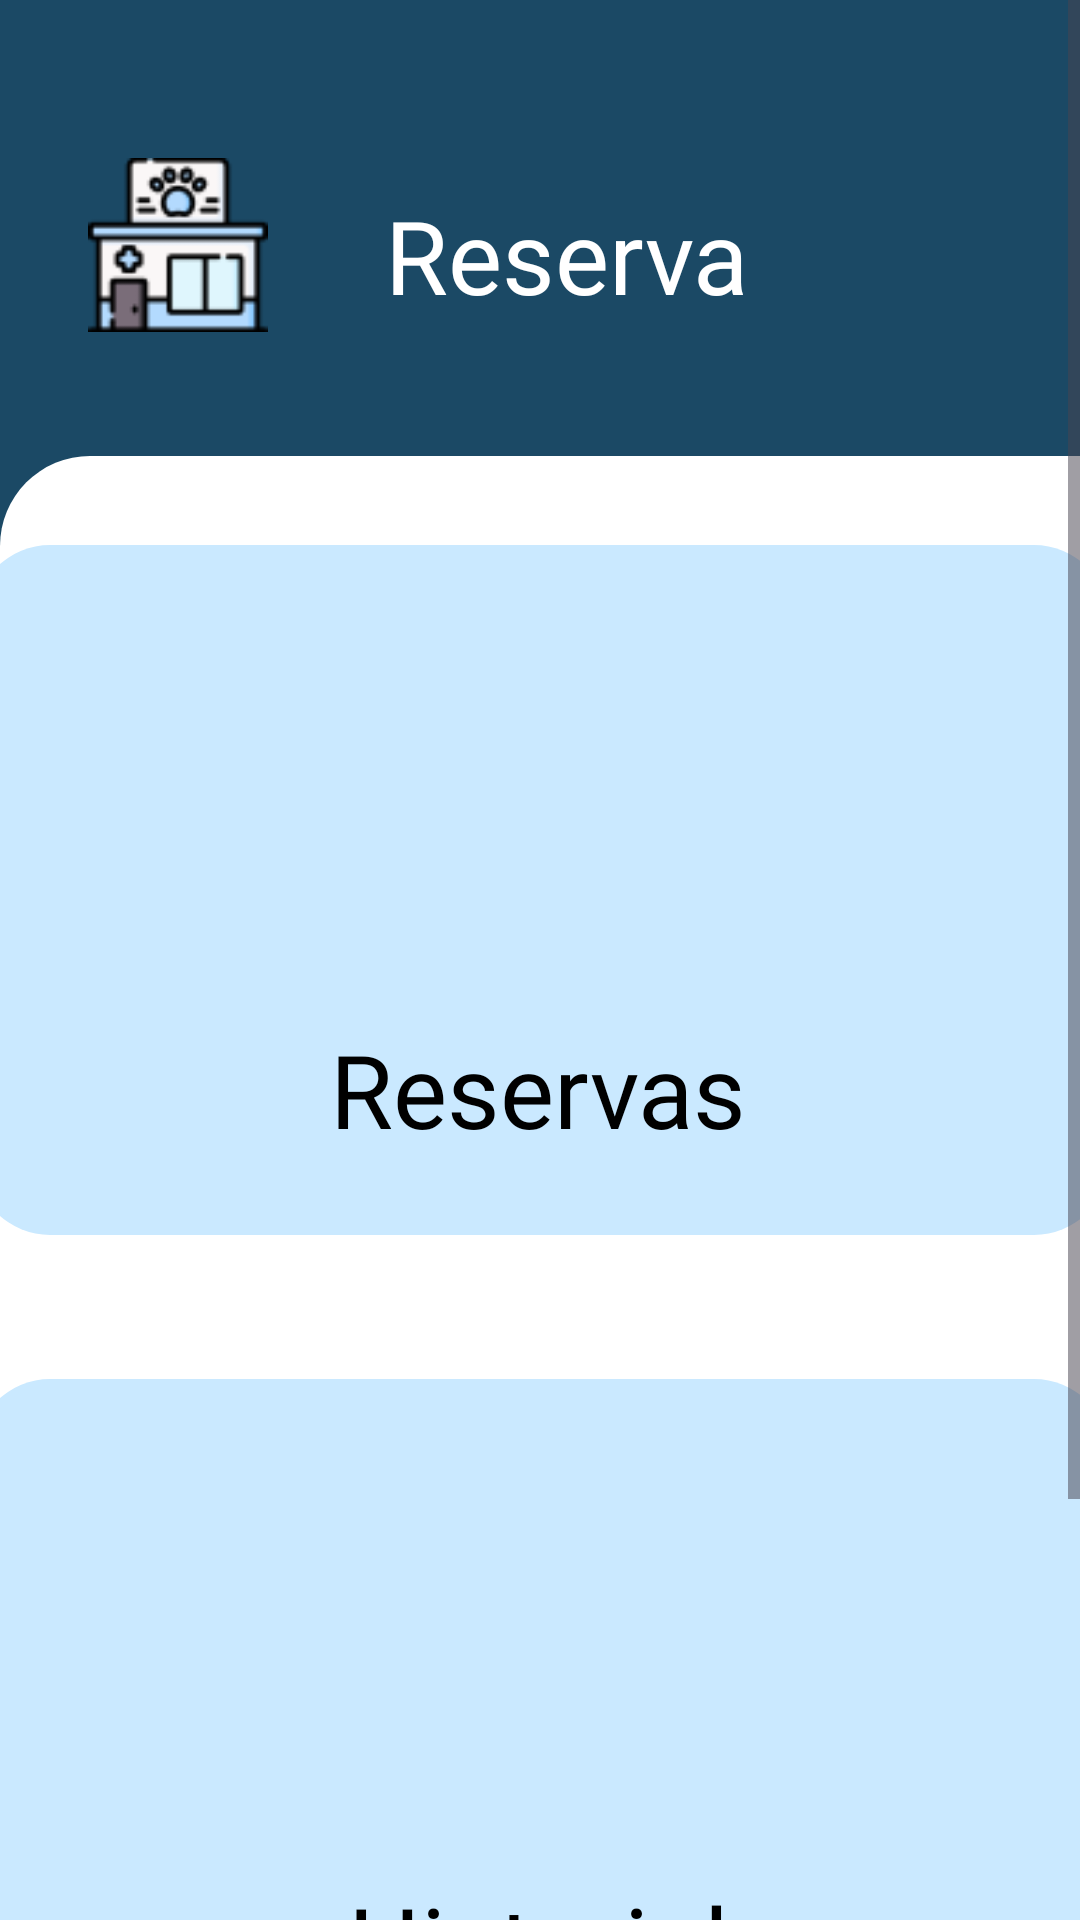

Screen size 1080*1920. Icon name, then its box in pixels as rect(x1, y1, x2, y2):
clinic: rect(88, 158, 268, 332)
